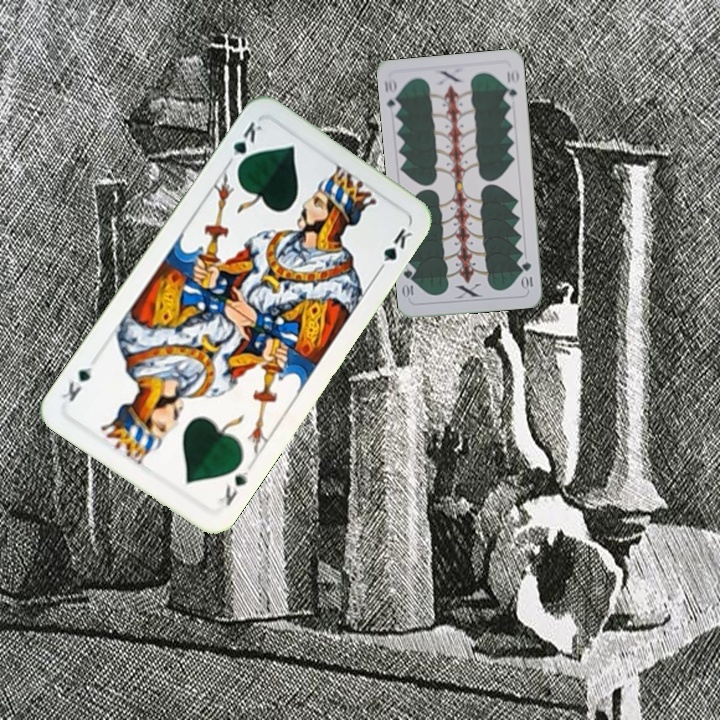G10: (380, 74, 402, 115), (518, 258, 535, 292)
GK: (222, 117, 266, 173), (214, 467, 251, 509)
